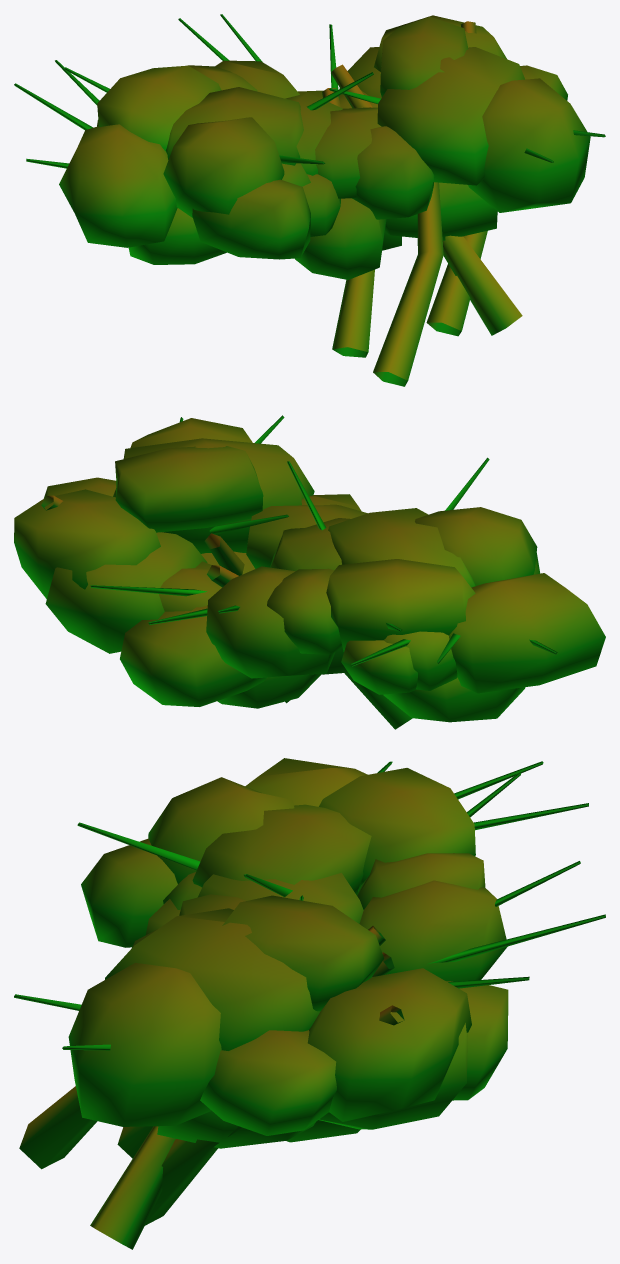
File: scrub_clump_a.glb
3 views of the same model, one above another, from view 1: azimuth 30°, elevation 25°; view 2: azimuth 150°, elevation 25°; view 3: azimuth 270°, elevation 25° (orthographic). The views are drawn at different scales.
Parts seen in each view (by area): view 1: scrub_clump_a; view 2: scrub_clump_a; view 3: scrub_clump_a.
Part boxes in pixels (box(x1,y1,x2,y2)): scrub_clump_a: box(14, 14, 605, 386); scrub_clump_a: box(14, 415, 605, 729); scrub_clump_a: box(14, 758, 605, 1249).
Size of what is drawn, in the model's own units: 1.46 by 0.7041 by 1.14.
